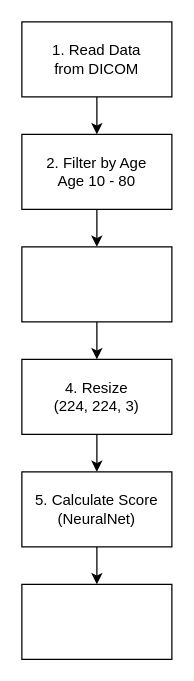
Image size: 194x681. Some labels were removed from this diagram. The shapes that lost their labels are listed below. From the top down, each one's centre as x and y in pixels, then its label:
the point at 96,284: 3. Normalize image 1/255, centering
the point at 96,621: 6. Threshold 1 or 0
